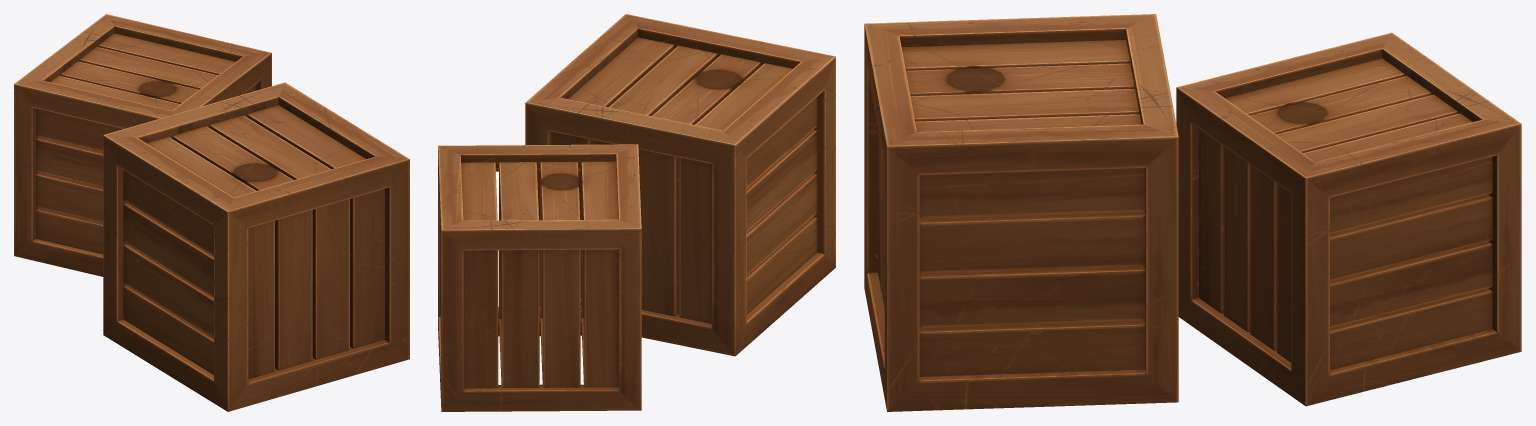
Rendered from Caixas.fbx.
3 renders of one model, left to right at view 1: azimuth 30°, elevation 25°; view 2: azimuth 150°, elevation 25°; view 3: azimuth 270°, elevation 25°, orthographic. The views are drawn at different scales.
Parts seen in each view (by area): view 1: Caixa1; view 2: Caixa1; view 3: Caixa1.
Part boxes in pixels (x1,y1,x2,y2): Caixa1: (14, 14, 409, 411); Caixa1: (438, 14, 835, 411); Caixa1: (864, 14, 1521, 411).
Size of the model in its own units: 84.4 by 71.54 by 161.
